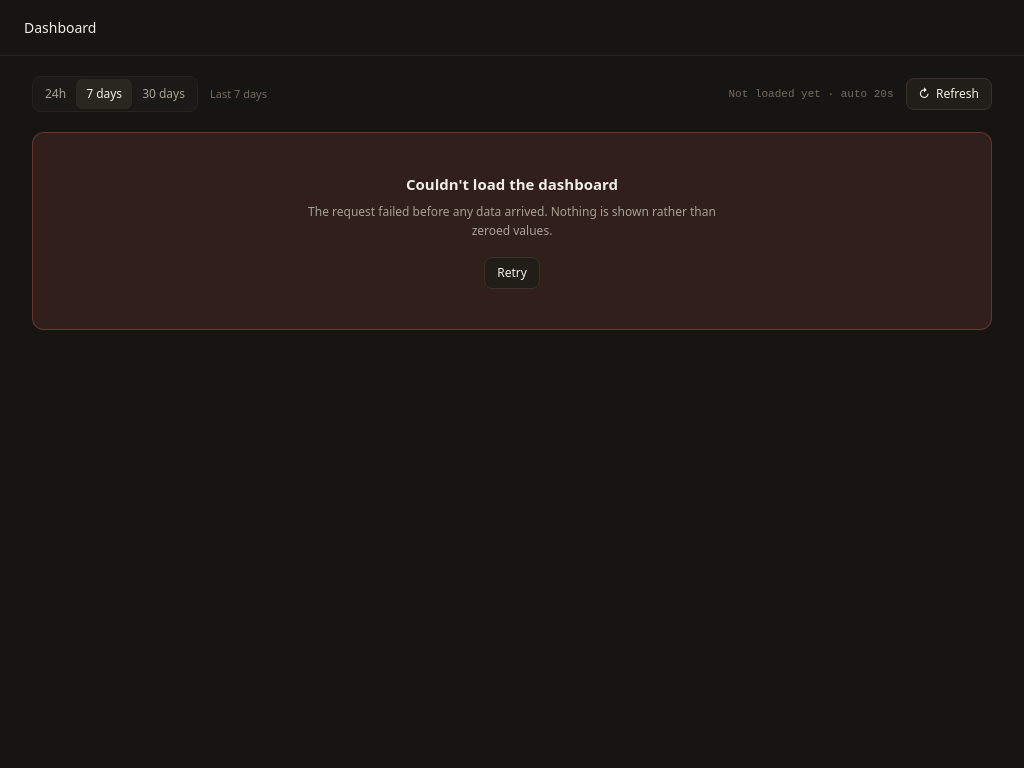
DashboardPage › shows a full error and can recover when there is no data
Expected: the heading "Couldn't load the dashboard" is shown, [406,174,618,194]
Click the button "Retry": (512, 272) [484,256,540,288]
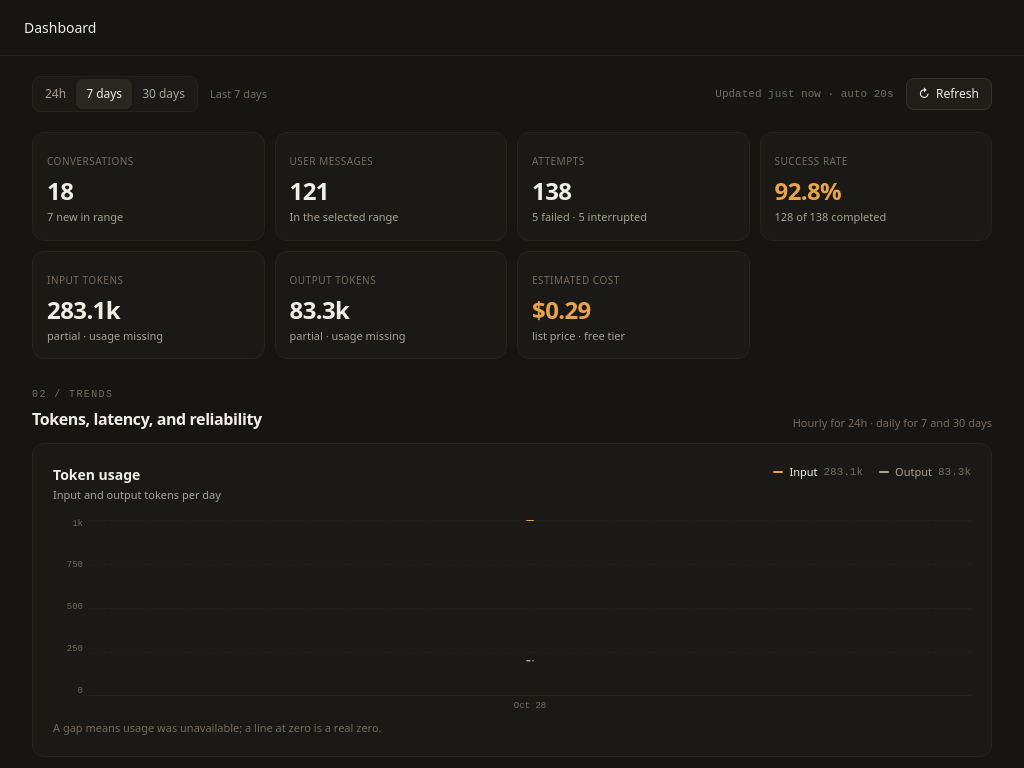
Now the text "92.8%" is shown, box [774,174,841,207]
